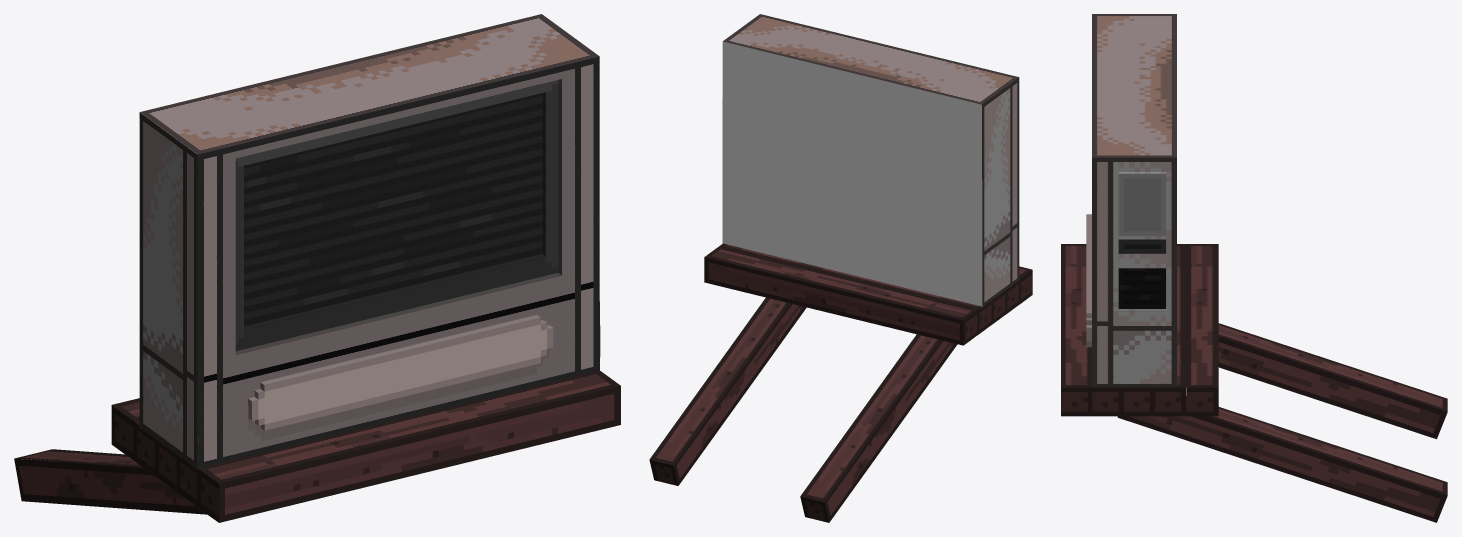
Rendered from Exhaus.fbx.
3 views of the same model, side by side, from view 1: azimuth 30°, elevation 25°; view 2: azimuth 150°, elevation 25°; view 3: azimuth 270°, elevation 25° (orthographic). The views are drawn at different scales.
Parts seen in each view (by area): view 1: Exhaus.001; view 2: Exhaus.001; view 3: Exhaus.001.
Boxes of the visible parts, x1,y1,x2,y2 form: Exhaus.001: [14, 14, 620, 522]; Exhaus.001: [649, 14, 1032, 522]; Exhaus.001: [1061, 14, 1447, 522].
Size of the model in its own units: 66.04 by 74.3 by 82.83.
Materials: 22 (21 with a texture image).
